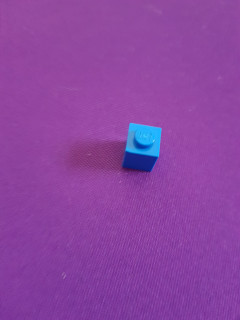1x1 blue: (119, 121, 163, 174)
